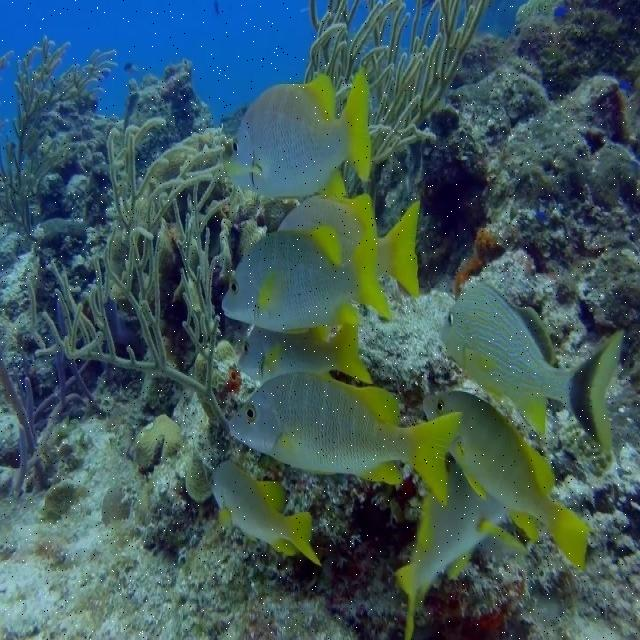aquatic plants: (35, 117, 230, 430), (305, 0, 486, 162)
fish: (439, 284, 624, 447), (421, 391, 590, 568), (228, 374, 458, 503), (395, 453, 527, 639), (222, 221, 391, 334), (230, 70, 370, 195), (281, 195, 421, 298), (211, 462, 324, 566), (238, 321, 373, 384)
